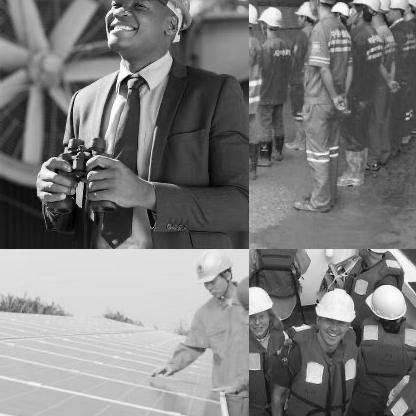Helmet: (93, 0, 204, 63), (310, 284, 358, 348), (191, 249, 236, 301), (363, 279, 409, 329), (249, 278, 277, 343), (231, 268, 248, 328), (349, 0, 380, 27), (293, 0, 315, 31), (260, 4, 282, 34), (345, 249, 393, 262), (329, 0, 353, 24), (303, 0, 338, 16), (387, 0, 407, 22), (249, 0, 260, 37), (405, 0, 415, 19)
